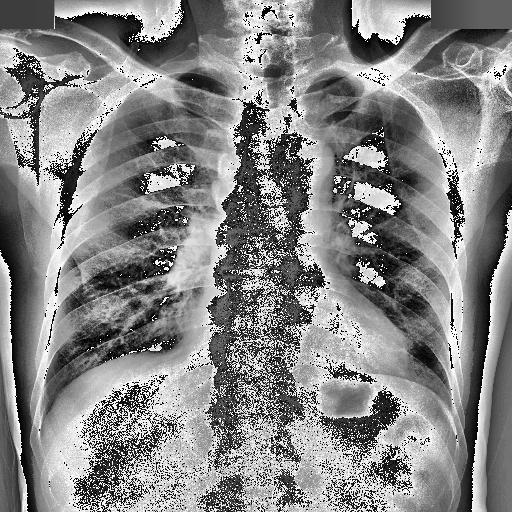0- Aortic enlargement: (275, 136, 336, 196), (272, 136, 334, 186), (275, 132, 335, 176)
11- Pleural thickening: (304, 70, 364, 89)
3- Cardiomegaly: (174, 307, 410, 385), (181, 302, 411, 376), (181, 310, 411, 378)
